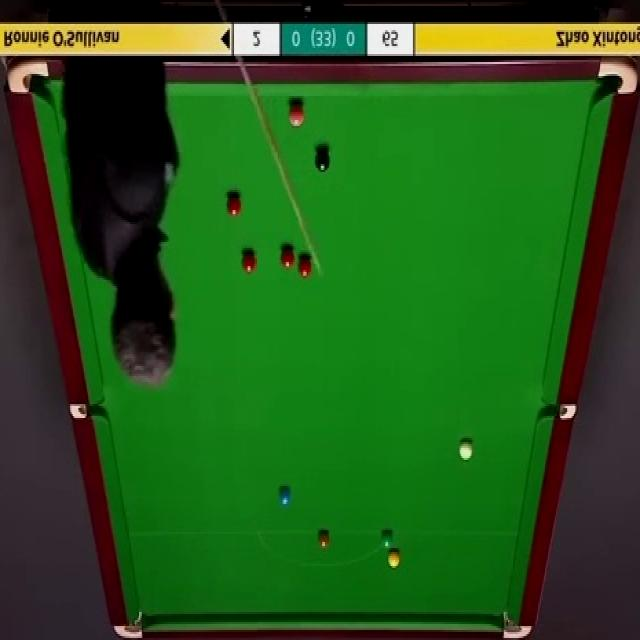pocket: (597, 55, 639, 97), (6, 62, 49, 98), (500, 608, 532, 640), (112, 611, 147, 640), (70, 403, 106, 419), (541, 405, 576, 420)
